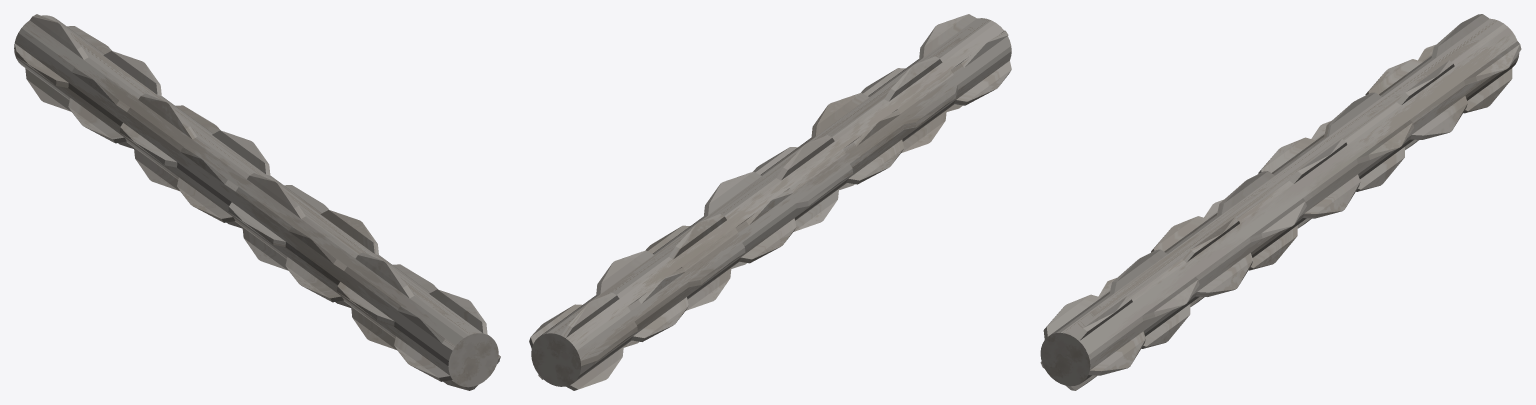
File: GrinderRotation.fbx
The picture shows the model from 3 angles, left to right: view 1: azimuth 30°, elevation 25°; view 2: azimuth 150°, elevation 25°; view 3: azimuth 330°, elevation 25°; orthographic projection.
Visible parts, largest first — view 1: Cylinder.001; view 2: Cylinder.001; view 3: Cylinder.001.
Part boxes in pixels (x1,y1,x2,y2): Cylinder.001: (14,14,500,390); Cylinder.001: (529,14,1011,390); Cylinder.001: (1040,14,1521,390).
Bounding box in the file's own units: 5.32 × 5.18 × 49.75.
Materials: 1 (1 with a texture image).
